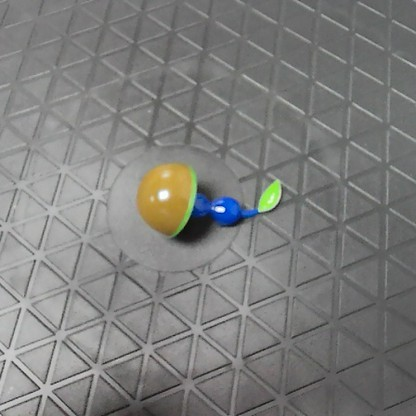leafairy: (135, 158, 283, 238)
